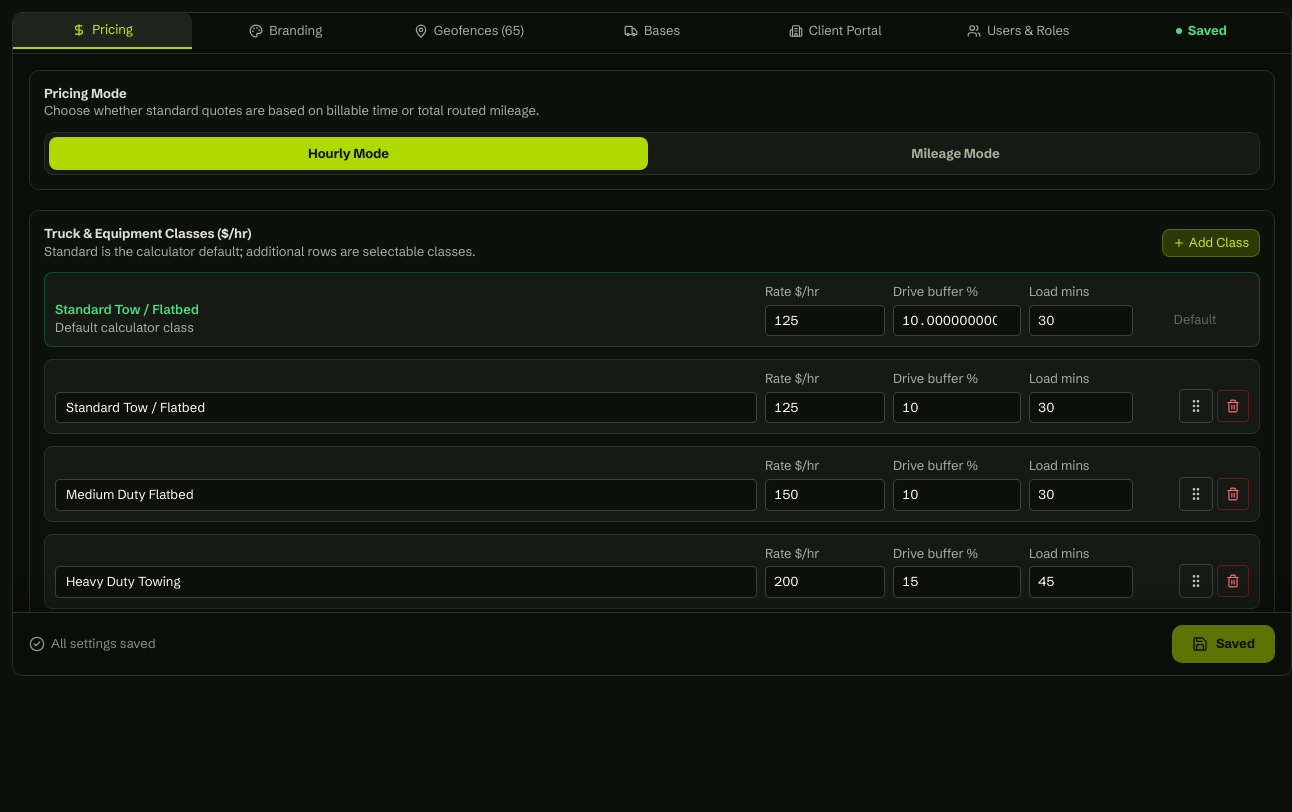
Test case: Settings unsaved-change behavior › switching pricing mode marks the form dirty and enables Save
Click the button "Mileage Mode". click: click(956, 153)
box: [656,137,1255,170]
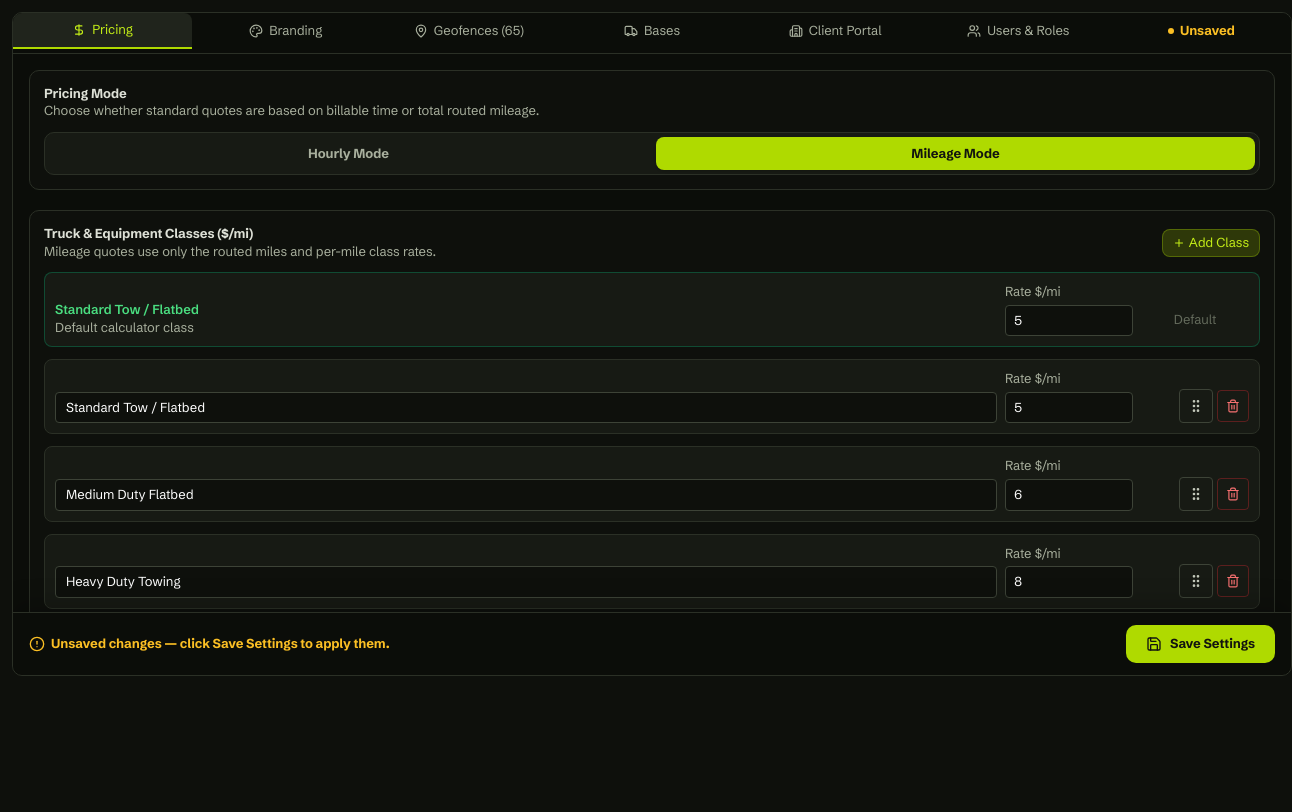
Now the text "Unsaved changes — click Save Settings to apply them." is shown, box [29,636,390,653]
Now the button "Save Settings" is enabled, box [1126,626,1275,663]
